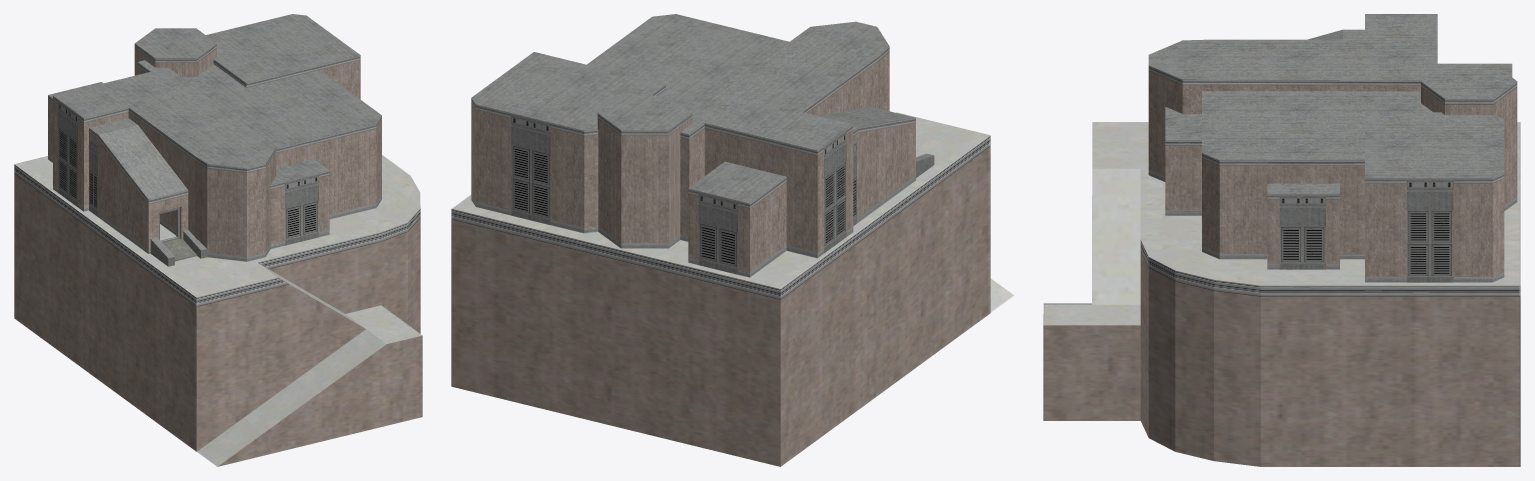
The model's file is ply_corl_house_lg_s02_fp1_r0_mesh_l2.fbx.
The picture shows the model from 3 angles, left to right: view 1: azimuth 30°, elevation 25°; view 2: azimuth 150°, elevation 25°; view 3: azimuth 270°, elevation 25°; orthographic projection. The views are drawn at different scales.
Visible parts, largest first — view 1: mesh_node; view 2: mesh_node; view 3: mesh_node.
Part boxes in pixels (left/top/right/bottom): mesh_node: left=14, top=14, right=422, bottom=466; mesh_node: left=451, top=14, right=1014, bottom=466; mesh_node: left=1043, top=14, right=1520, bottom=466.
Size of the model in its own units: 31.97 by 27.49 by 39.4.
